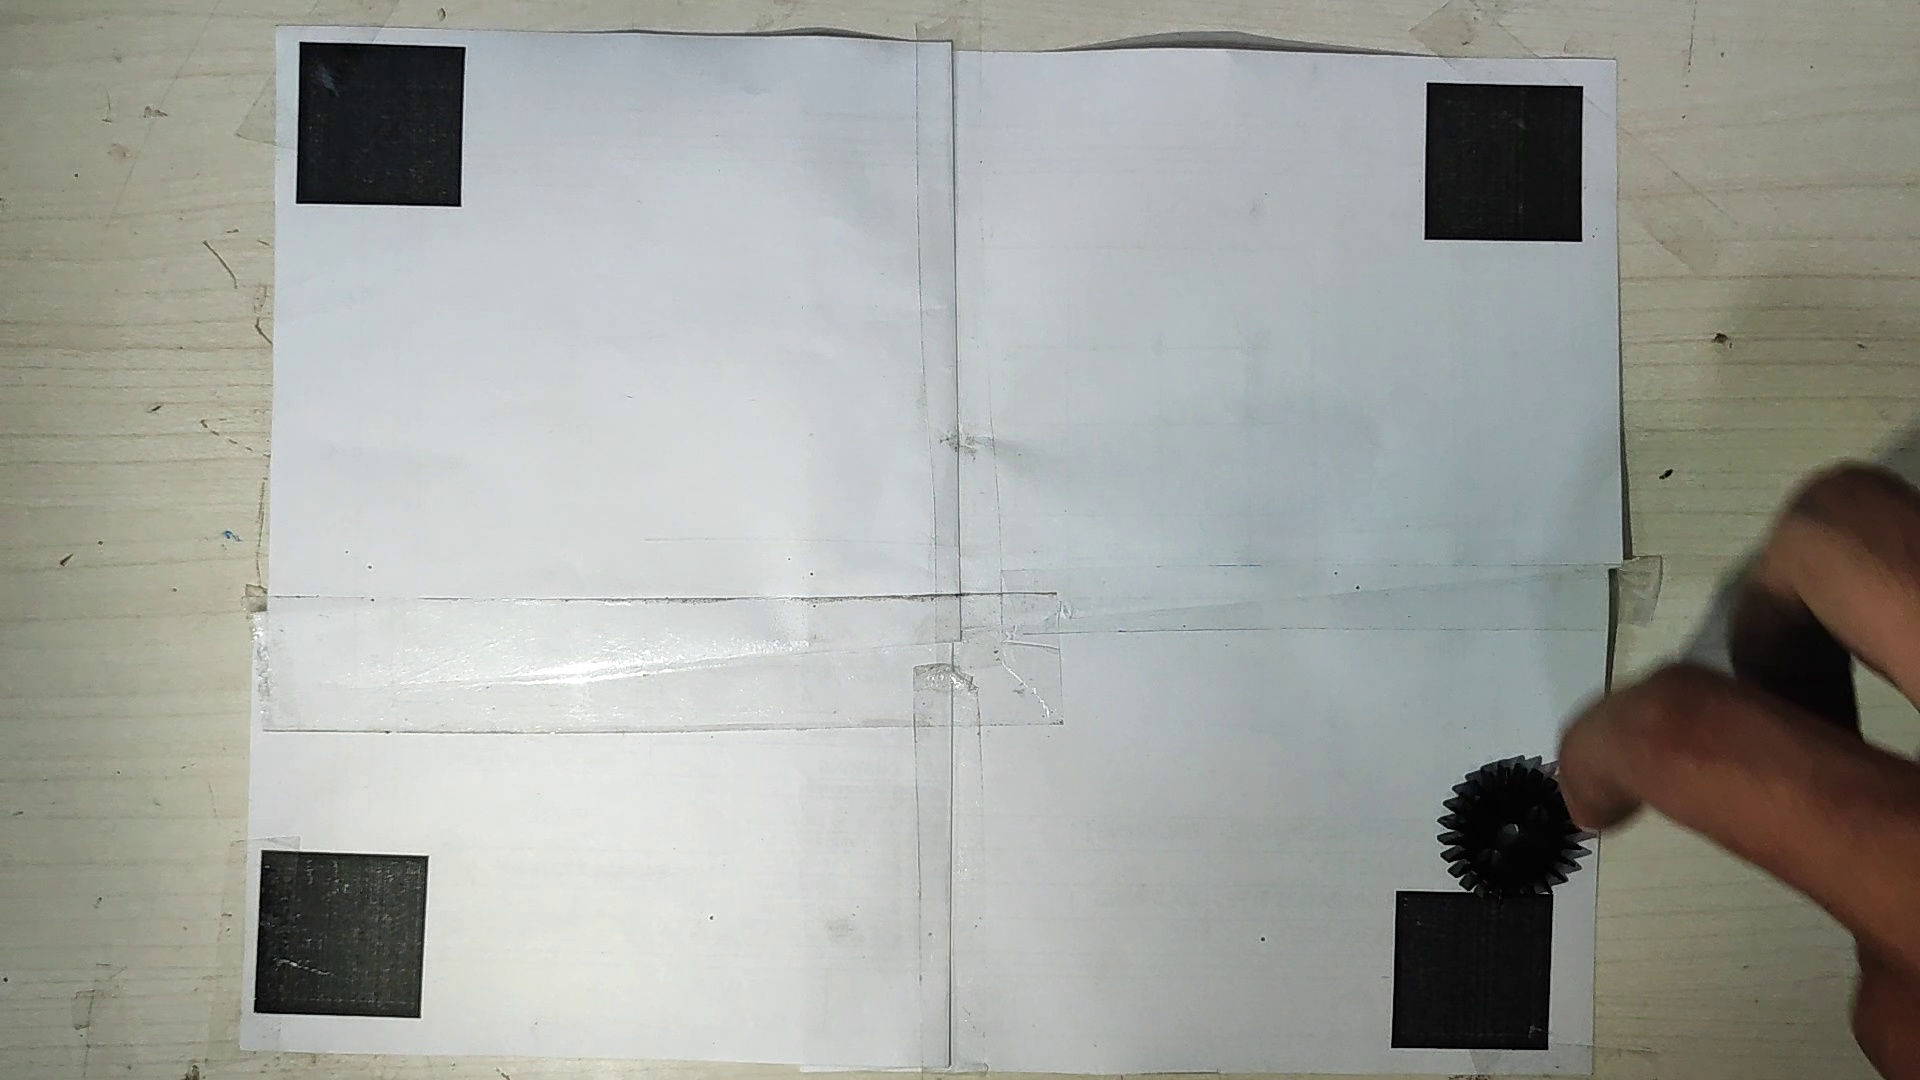Gear: (1432, 749, 1597, 904)
